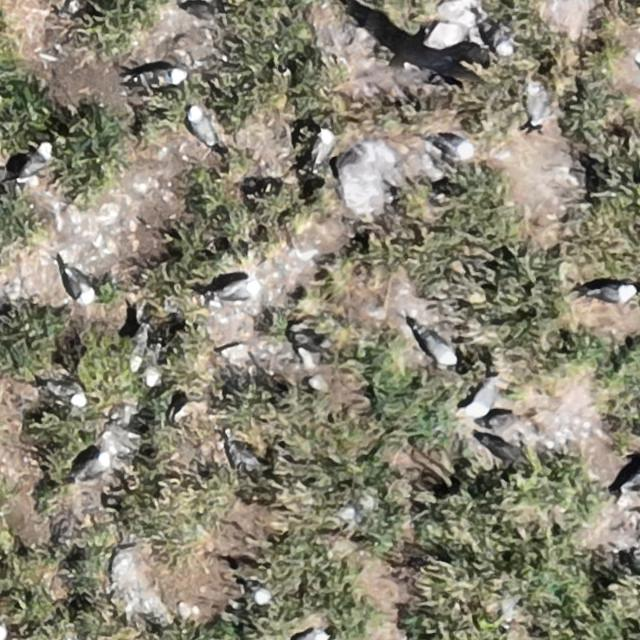umineko: (478, 15, 514, 56), (210, 277, 260, 301), (71, 453, 110, 483), (474, 374, 500, 415), (424, 332, 457, 364), (141, 66, 186, 85), (146, 342, 164, 387), (48, 384, 84, 406), (189, 110, 212, 144), (592, 286, 634, 304), (132, 323, 148, 370), (66, 270, 90, 300), (27, 144, 51, 172), (529, 87, 547, 124), (440, 136, 472, 156), (313, 128, 332, 160), (250, 584, 272, 604), (623, 466, 639, 492), (293, 630, 325, 640)
